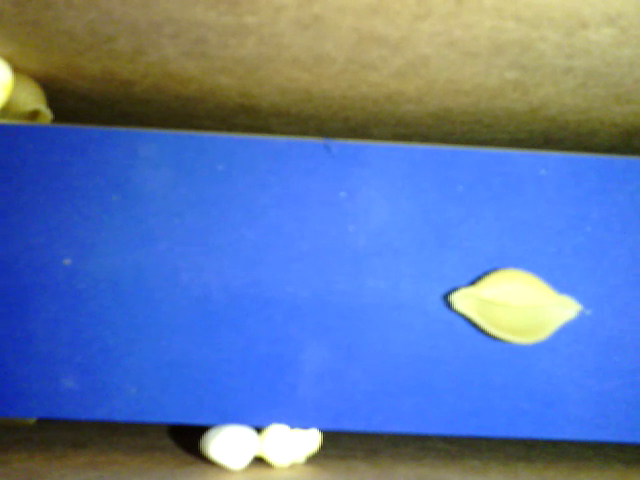shell: (445, 266, 579, 345), (4, 75, 54, 126)
